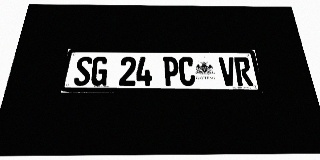2: (119, 57, 136, 86)
4: (136, 57, 152, 86)
C: (179, 57, 196, 86)
G: (90, 57, 109, 86)
P: (163, 57, 179, 86)
R: (234, 57, 253, 86)
S: (73, 56, 93, 86)
V: (218, 57, 237, 86)
